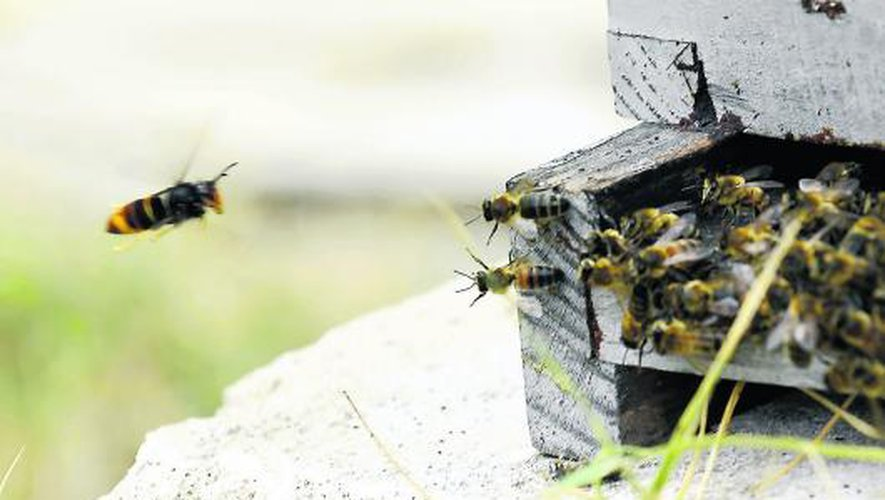bee: (791, 169, 885, 397), (577, 206, 712, 299), (649, 283, 778, 368), (467, 181, 574, 238), (459, 252, 569, 299), (601, 291, 666, 356), (703, 178, 778, 219)
hornet: (97, 169, 242, 246)
